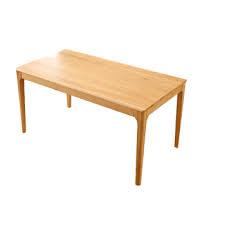desk: (12, 33, 194, 195)
